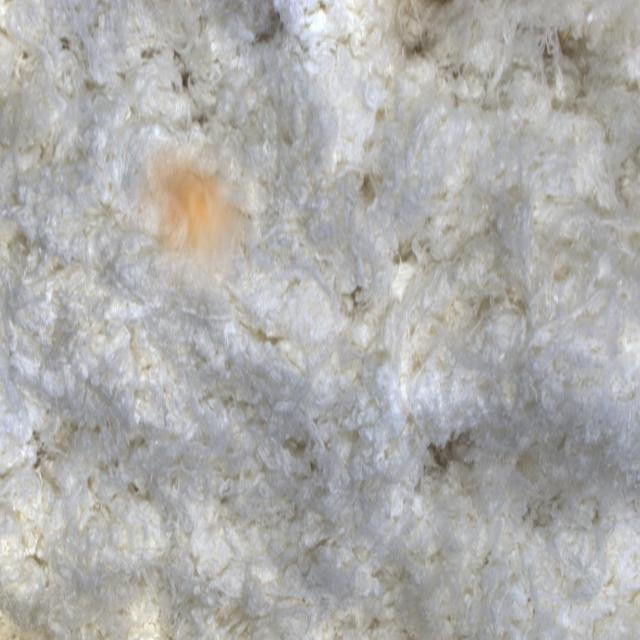dust: (122, 139, 261, 319)
